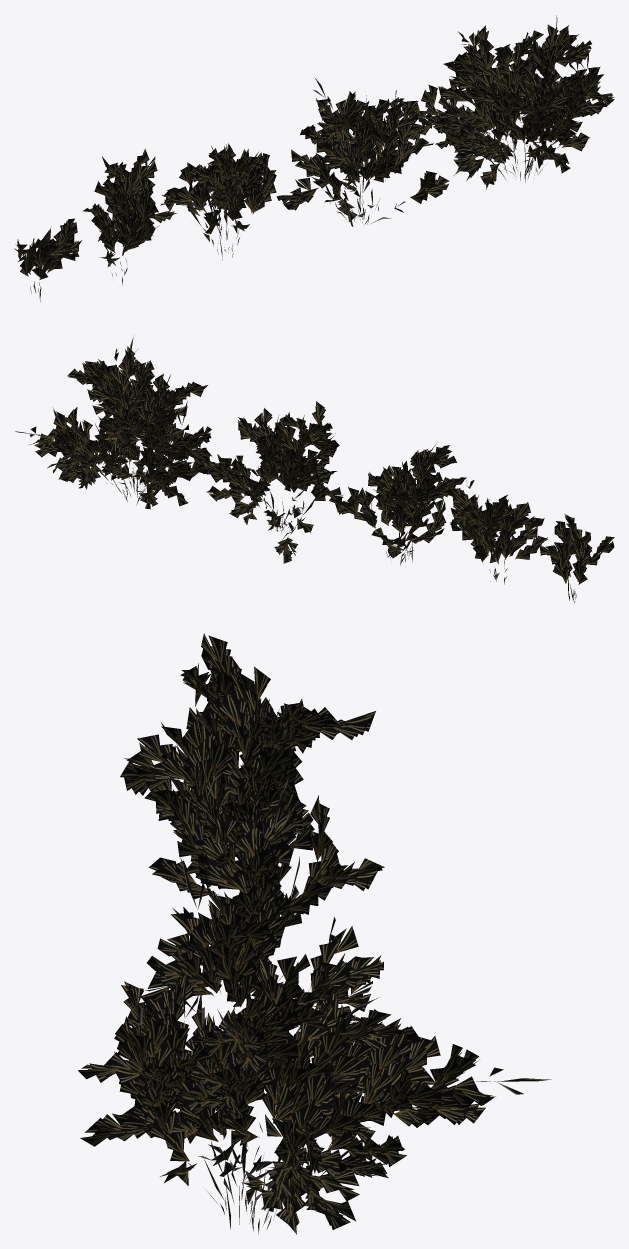
File: wild_rooibos_bush.glb
The picture shows the model from 3 angles, top to bottom: view 1: azimuth 30°, elevation 25°; view 2: azimuth 150°, elevation 25°; view 3: azimuth 270°, elevation 25°; orthographic projection. The views are drawn at different scales.
Parts seen in each view (by area): view 1: wild_rooibos_bush; view 2: wild_rooibos_bush; view 3: wild_rooibos_bush.
Boxes of the visible parts, <box> form: wild_rooibos_bush: <box>14,15,614,302</box>; wild_rooibos_bush: <box>15,337,614,603</box>; wild_rooibos_bush: <box>78,633,551,1234</box>.
Bounding box in the file's own units: 2.27 × 0.5439 × 0.8433.
Materials: 3 (3 with a texture image).
